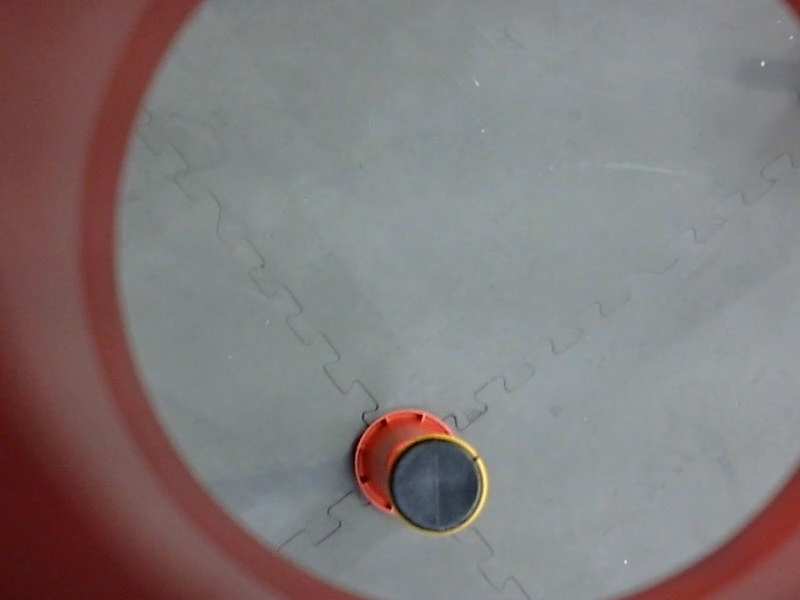tip: (379, 426, 495, 547)
